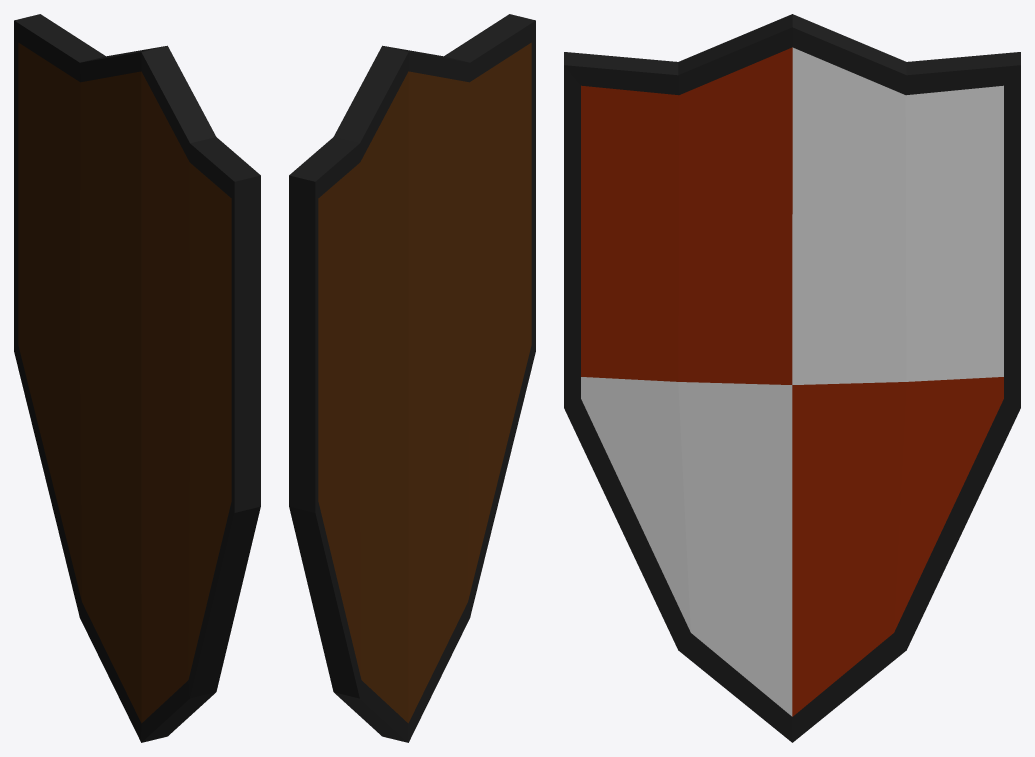
The model's file is Shield.fbx.
The picture shows the model from 3 angles, left to right: view 1: azimuth 30°, elevation 25°; view 2: azimuth 150°, elevation 25°; view 3: azimuth 270°, elevation 25°; orthographic projection. The views are drawn at different scales.
Visible parts, largest first — view 1: Shield; view 2: Shield; view 3: Shield.
Part boxes in pixels (x1,y1,x2,y2): Shield: [14, 14, 260, 742]; Shield: [289, 14, 535, 742]; Shield: [564, 14, 1020, 742].
Bounding box in the file's own units: 0.0479 × 0.7255 × 0.4198.
